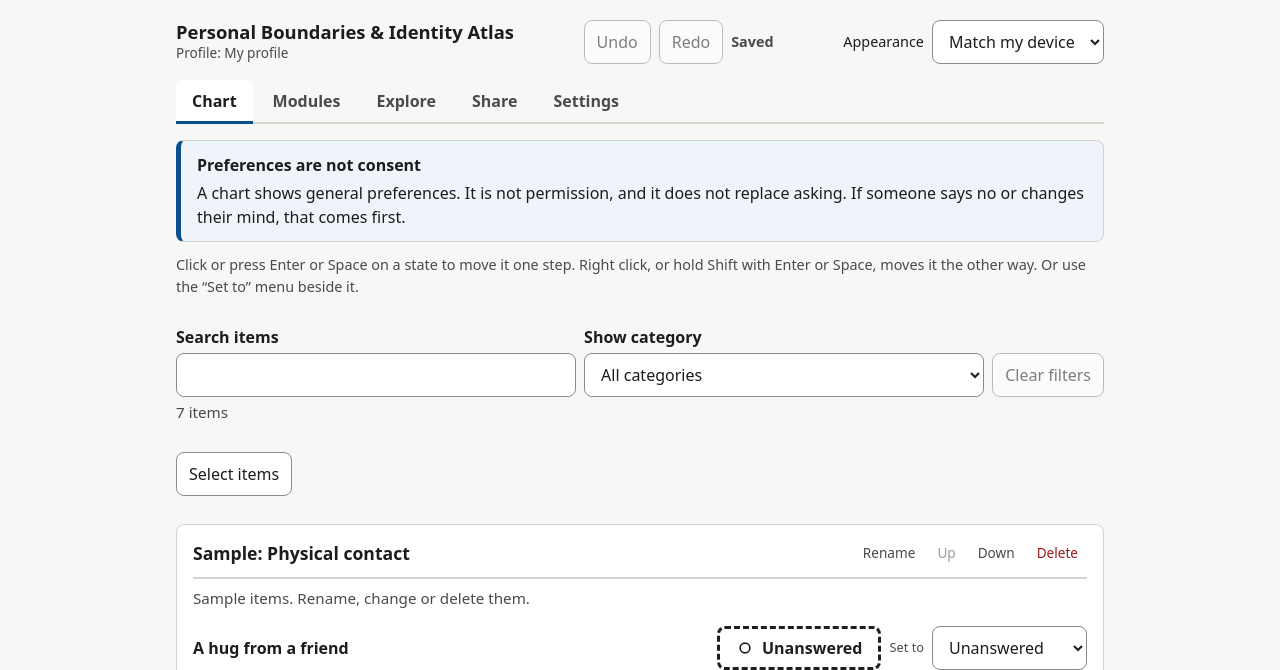
Test: section tabs › keeps a section as it was left: an open panel stays open after visiting another section
Expected: the heading "Personal Boundaries & Identity Atlas" is shown, [176,20,514,43]
Click the tab "Explore" at (406, 102), box [360,80,452,124]
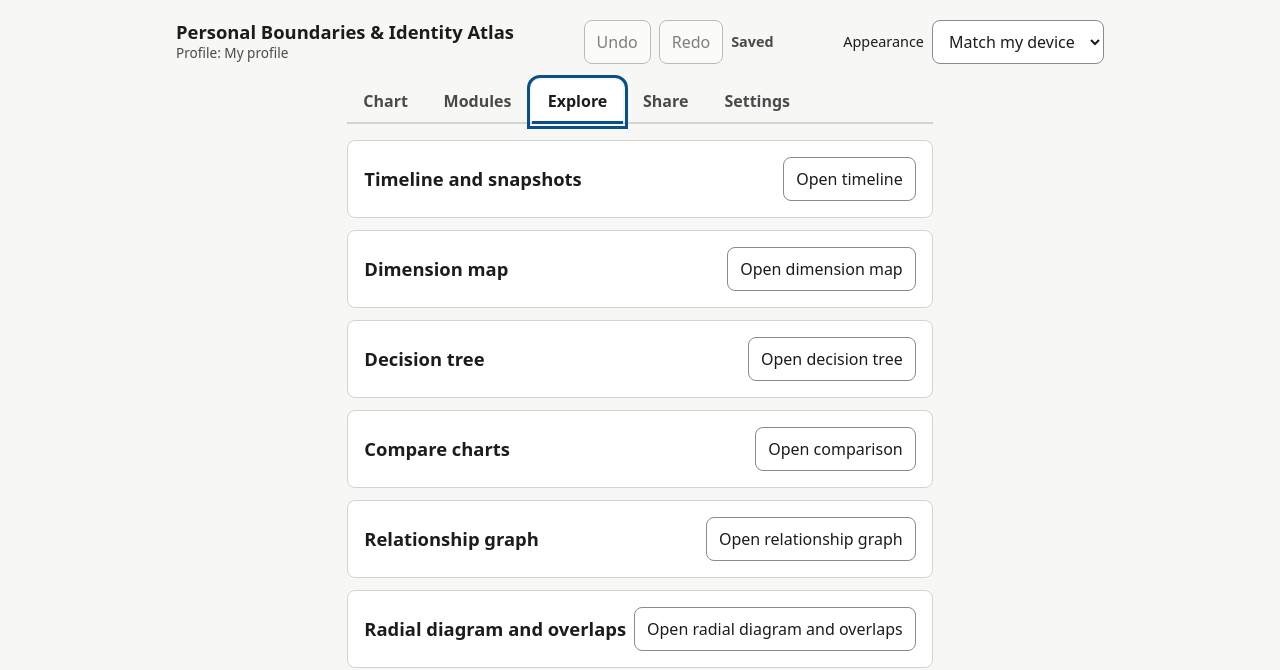
Click the button "Open timeline" at (849, 179), box [783,157,916,201]
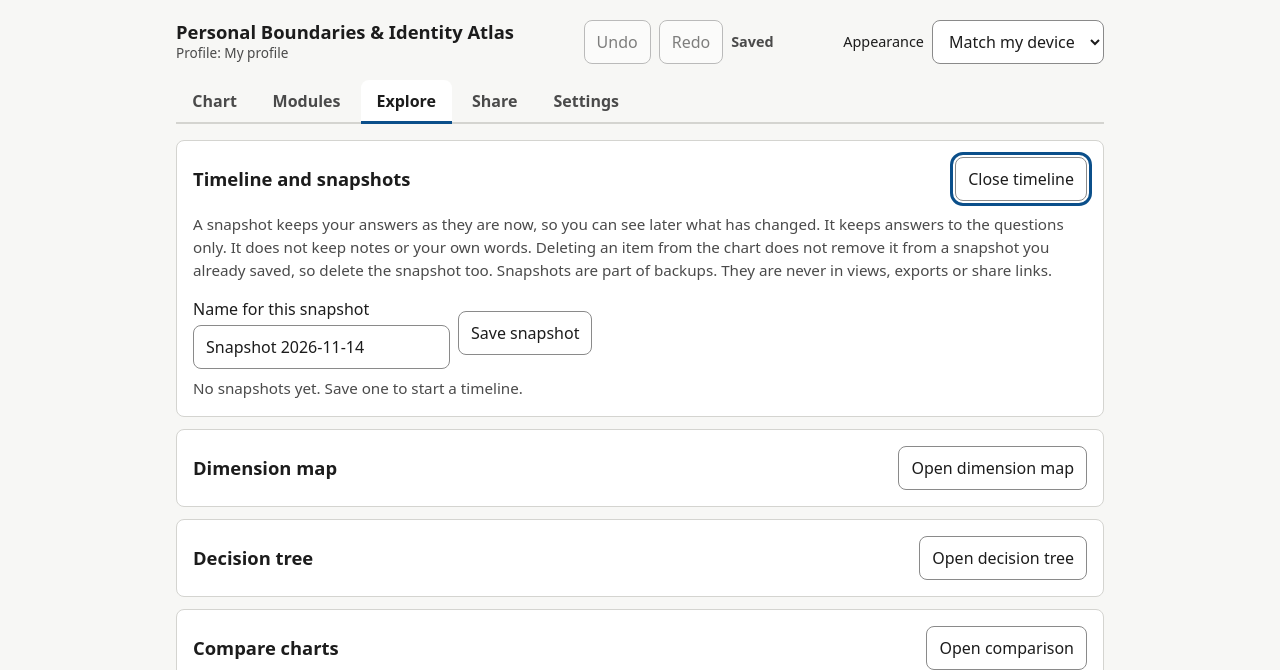
Now the button "Close timeline" is shown, box [955,157,1087,201]
Click the tab "Chart" at (214, 102), box [176,80,253,124]
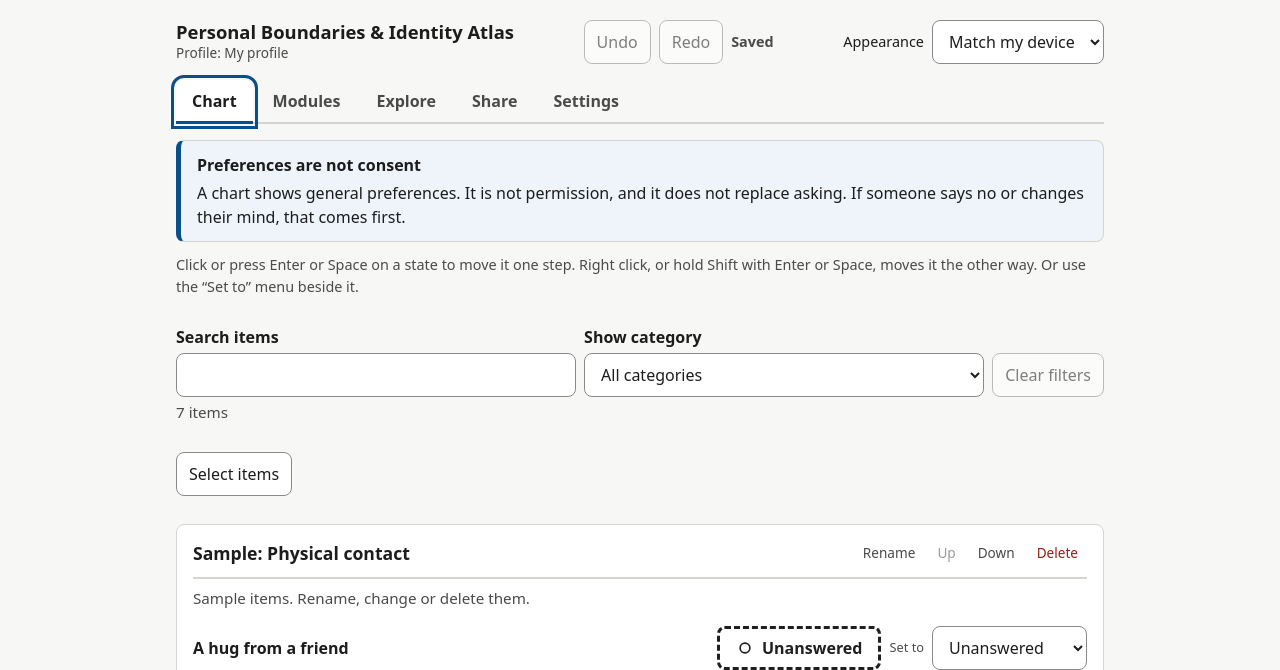
Click the tab "Explore" at (406, 102), box [360,80,452,124]
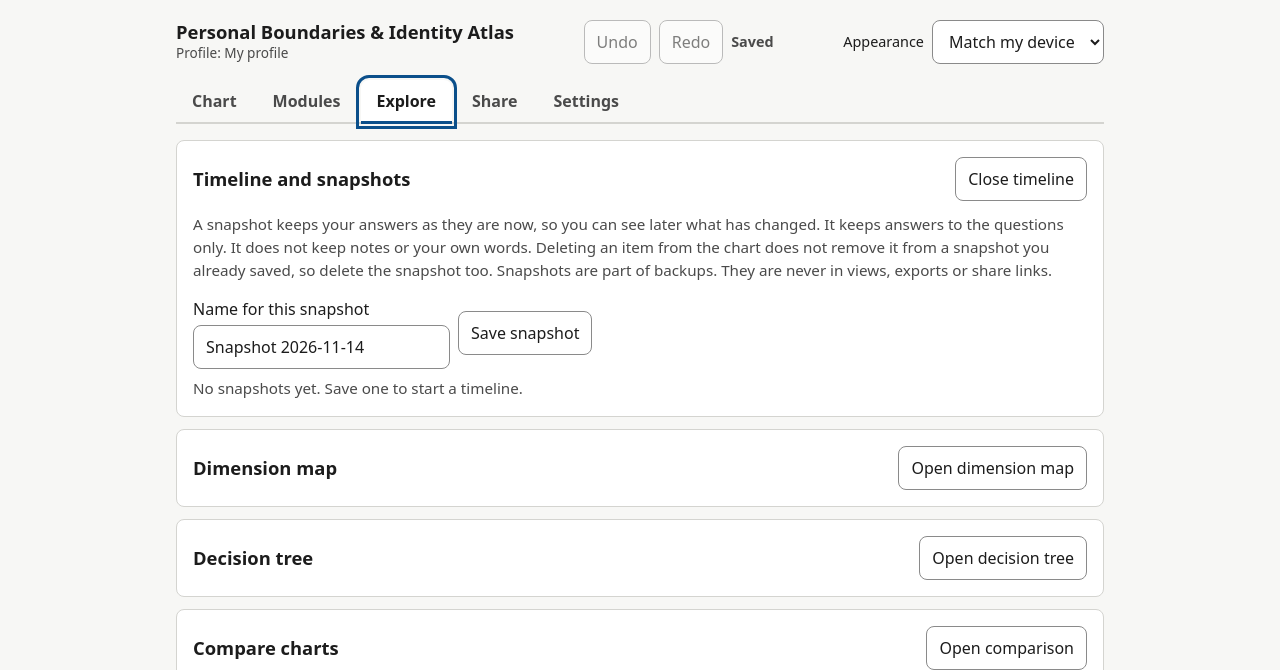
Now the button "Close timeline" is shown, box [955,157,1087,201]
